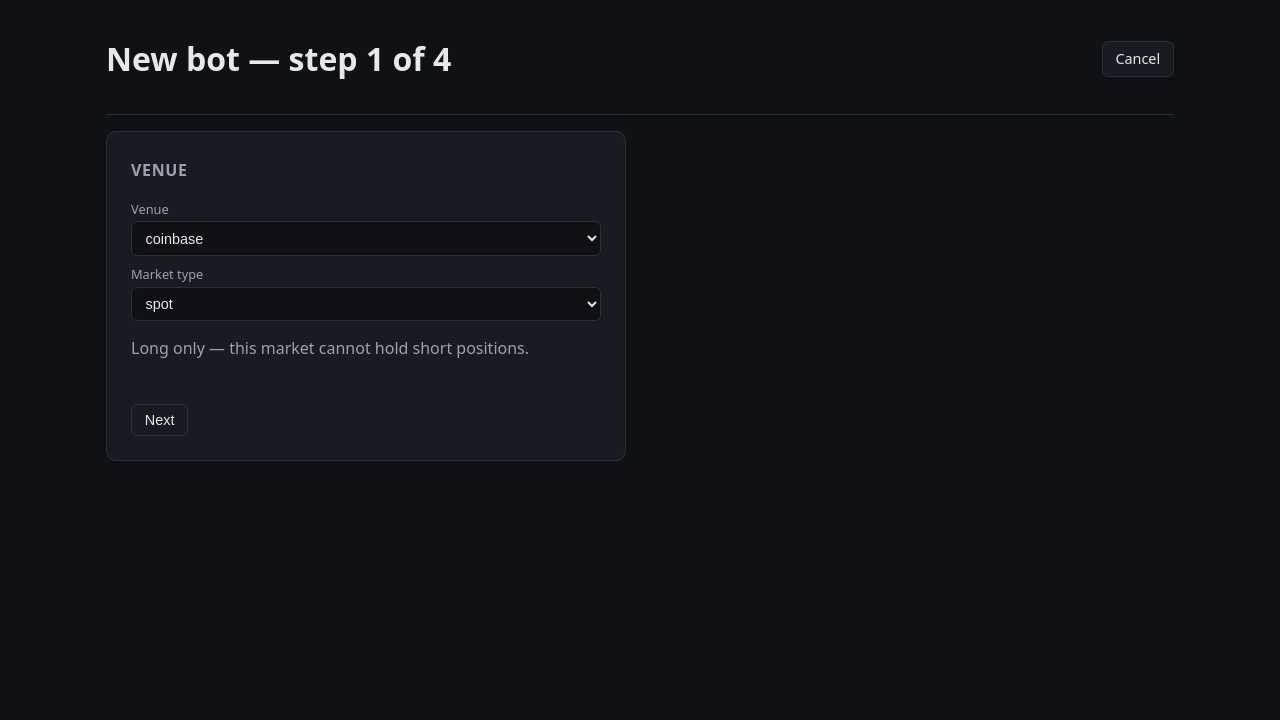
Test: NewBot wizard › blocks Next on step 3 until required fields are filled
Expected: the dropdown labelled "Venue" is shown, [131,221,601,256]
Click the button "Next". click: coordinates (160, 420)
box: [131,404,188,436]
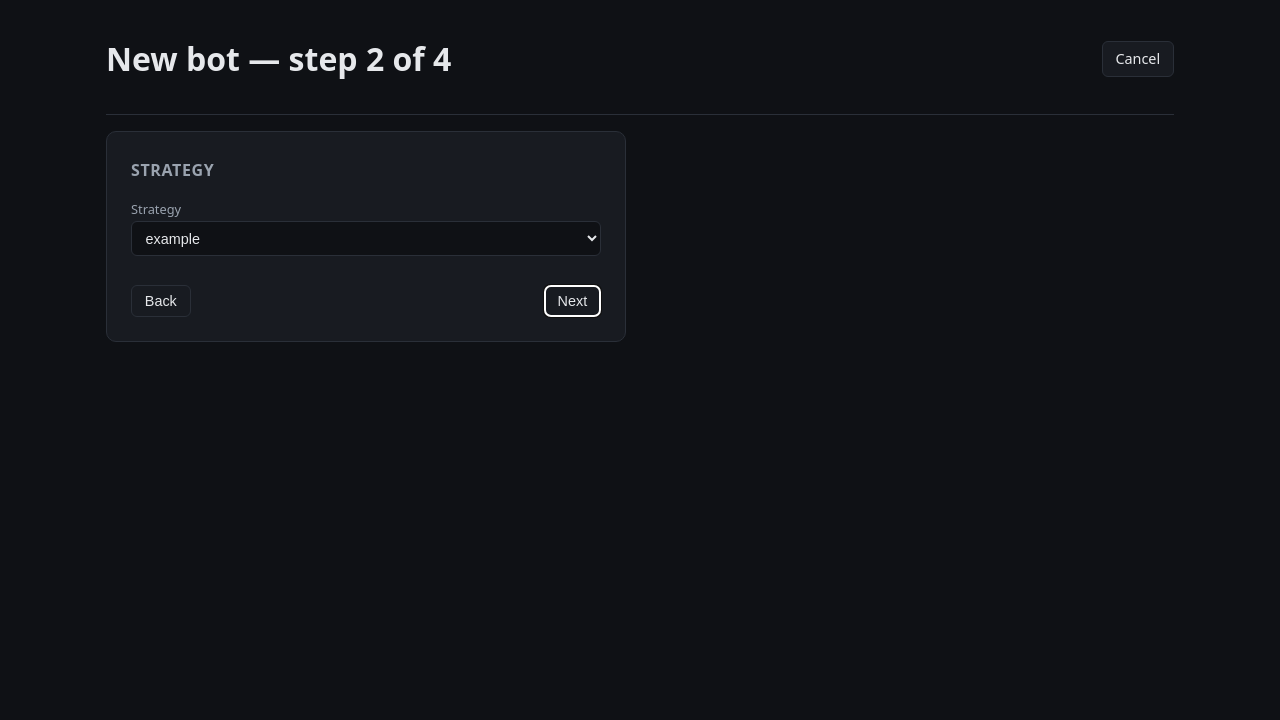
Click the button "Next". click: coordinates (572, 301)
box: [544,285,601,317]
(page scrolled)
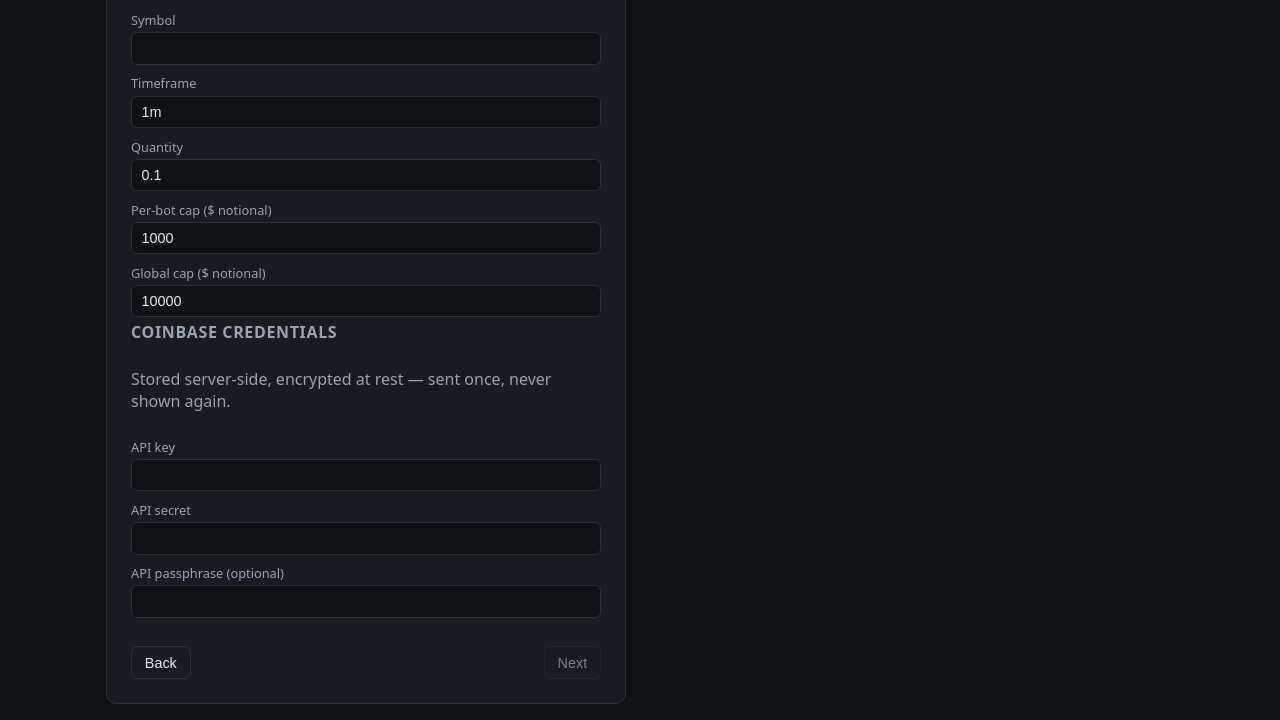
Expected: the button "Next" is disabled, [544,646,601,679]
